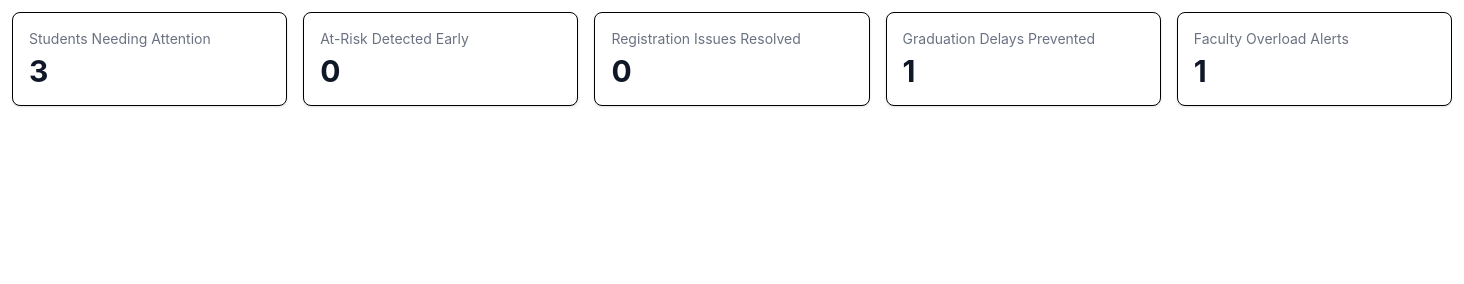
it: KpiCards zero-count empty state › a term with nobody declining still expands and says so in trend terms
Click the button "At-Risk Detected Early 0" at (394, 38), box [303, 12, 578, 106]
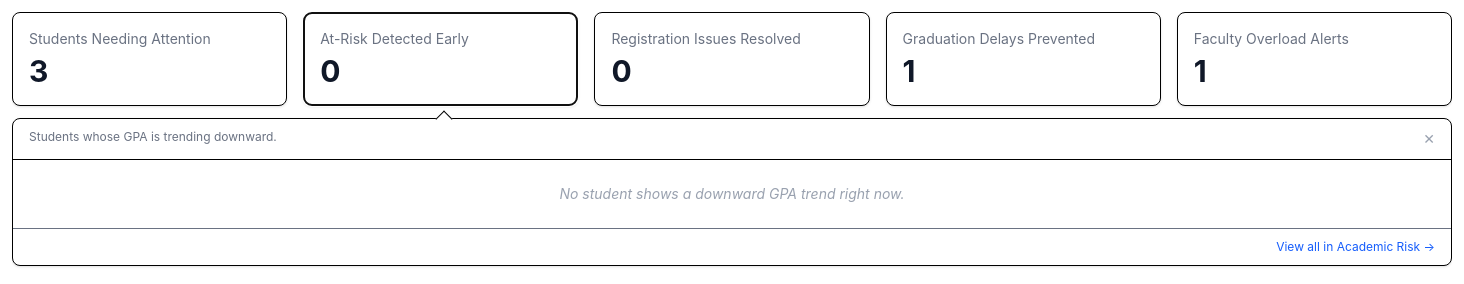
Check: the button "At-Risk Detected Early 0" is expanded, box [303, 12, 578, 106]
Check: the element with test id "kpi-drilldown" is shown, box [12, 118, 1452, 266]
Check: the text with test id "drilldown-empty" reads "No student shows a downward GPA trend right now.", box [560, 185, 905, 202]
